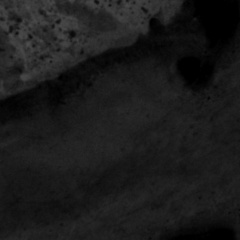Vegetation: (1, 1, 76, 63), (82, 1, 151, 30)
